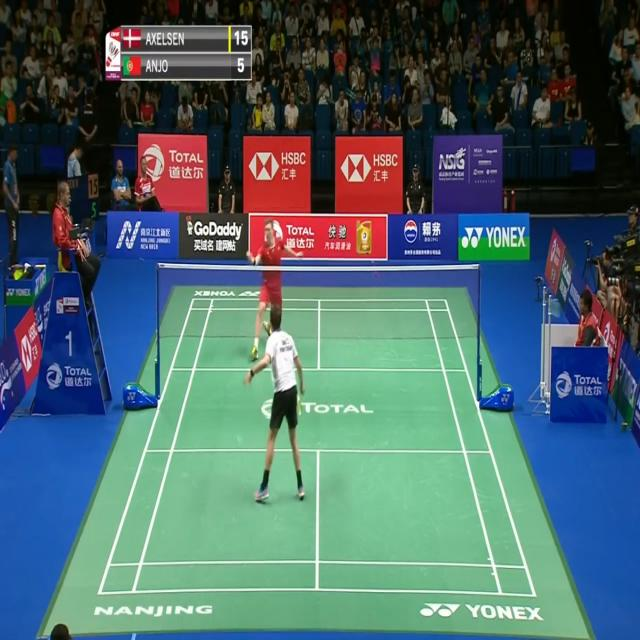Player1: (240, 303, 311, 509)
Player2: (243, 217, 306, 362)
